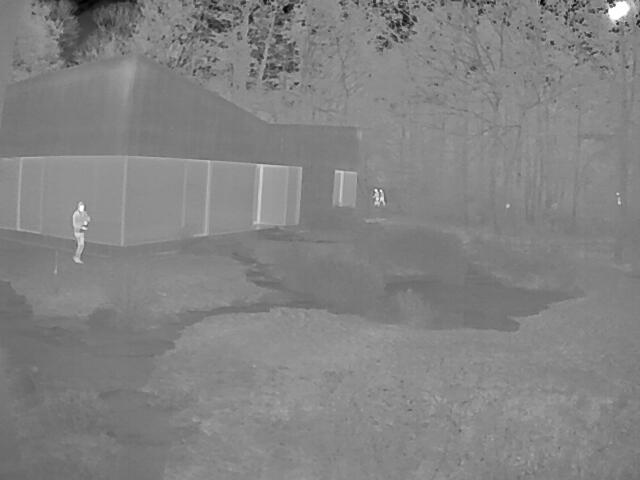person: (71, 202, 90, 263), (377, 187, 385, 206), (371, 188, 379, 206)
